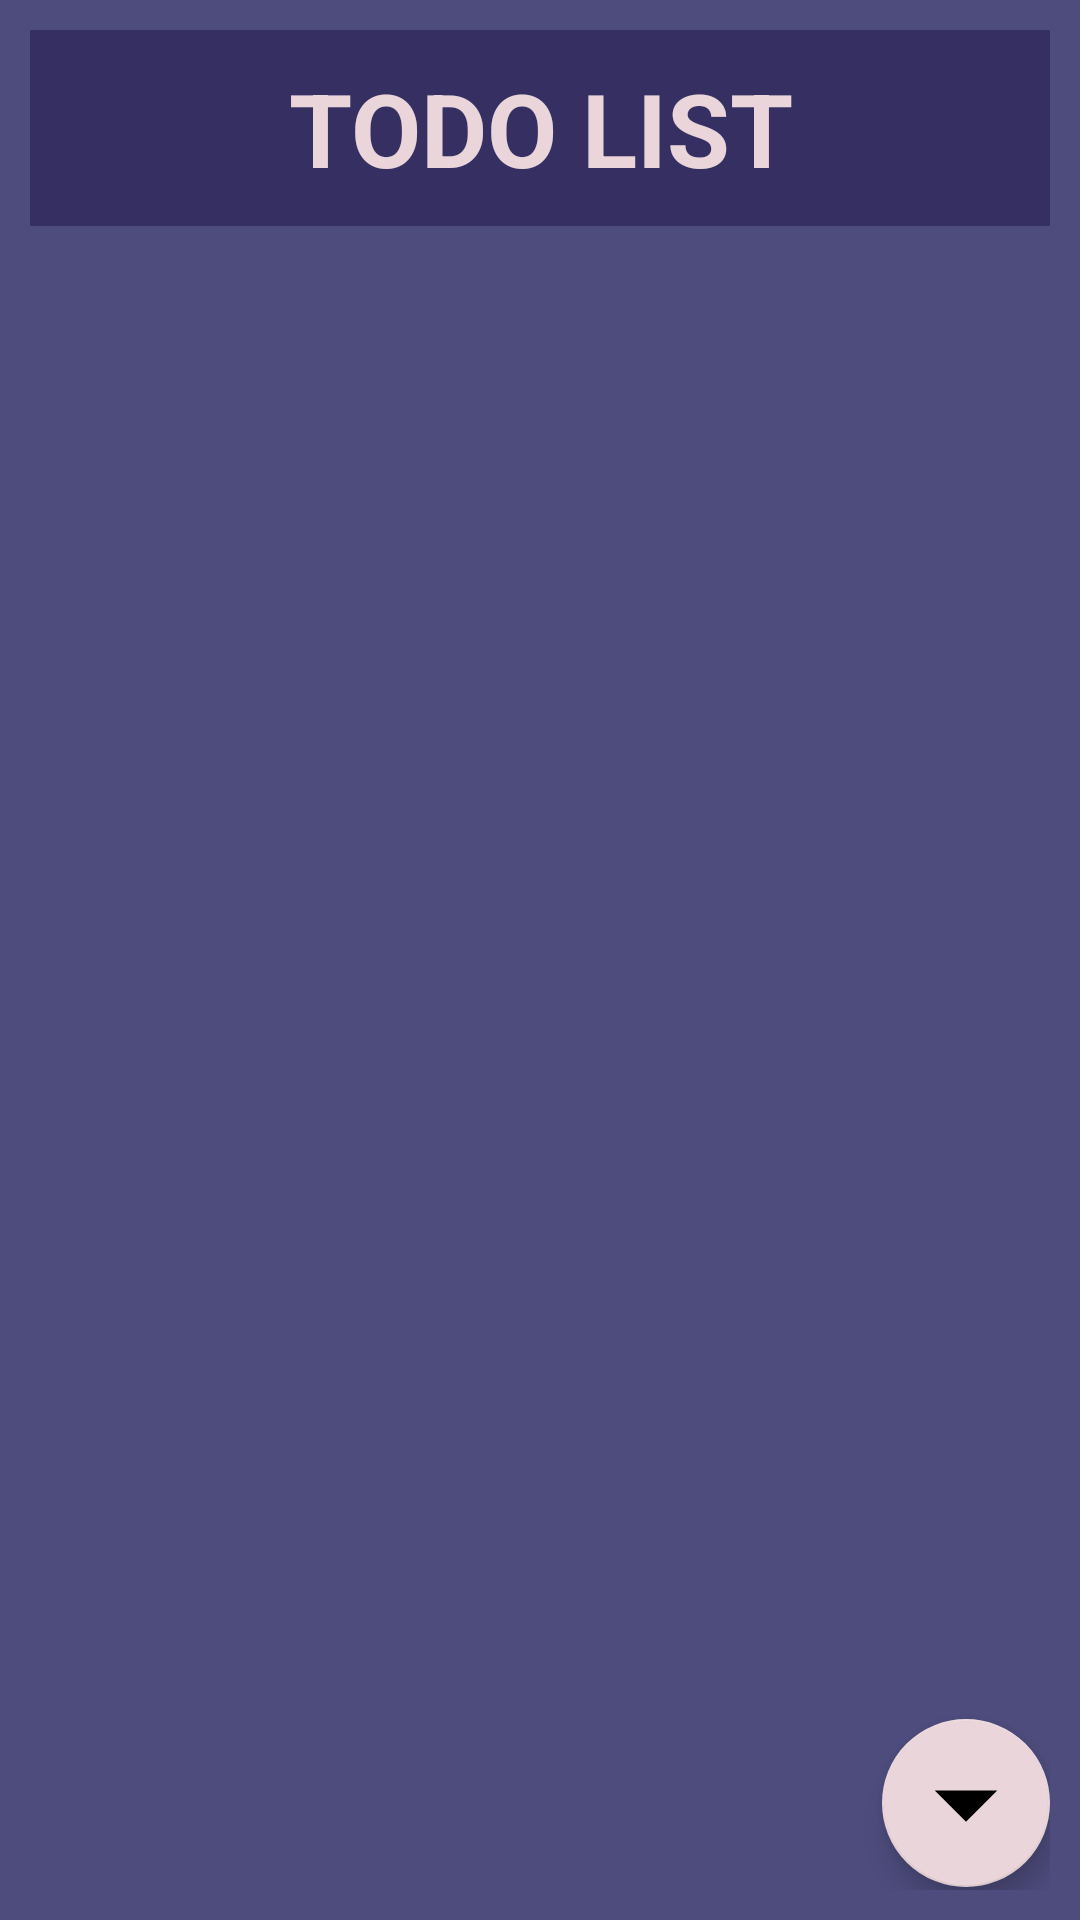

Screen size 1080w x 1920h. Icon name, then its center in pixels as point (x, y):
arrow drop down: point (966, 1803)
